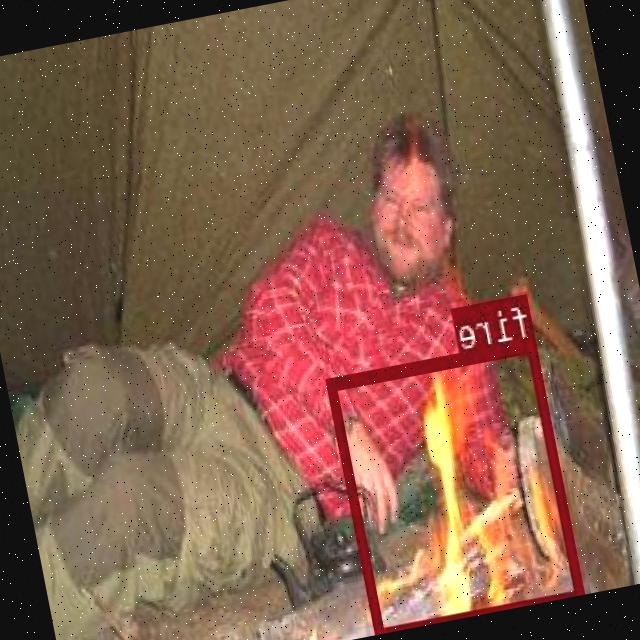fire: (328, 336, 586, 634)
